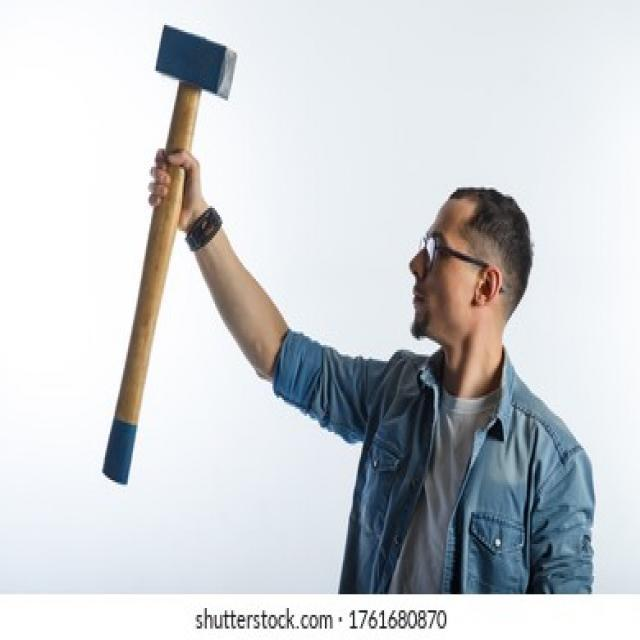hammer: (92, 15, 244, 495)
